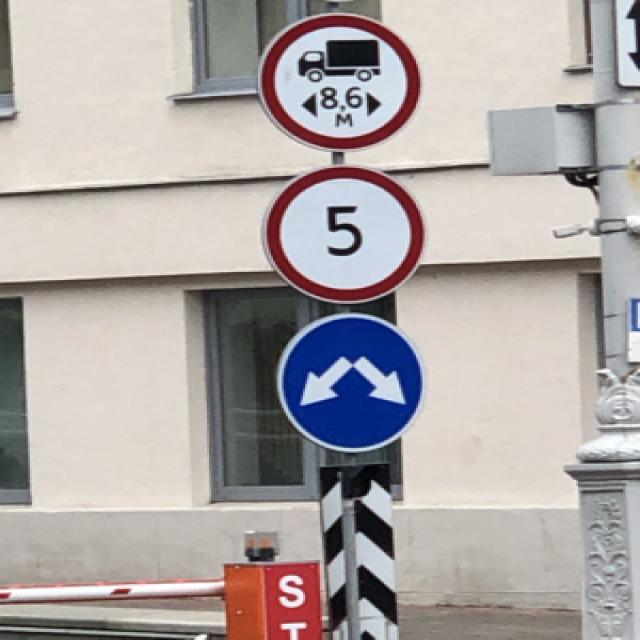speedlimit: (256, 164, 425, 302)
